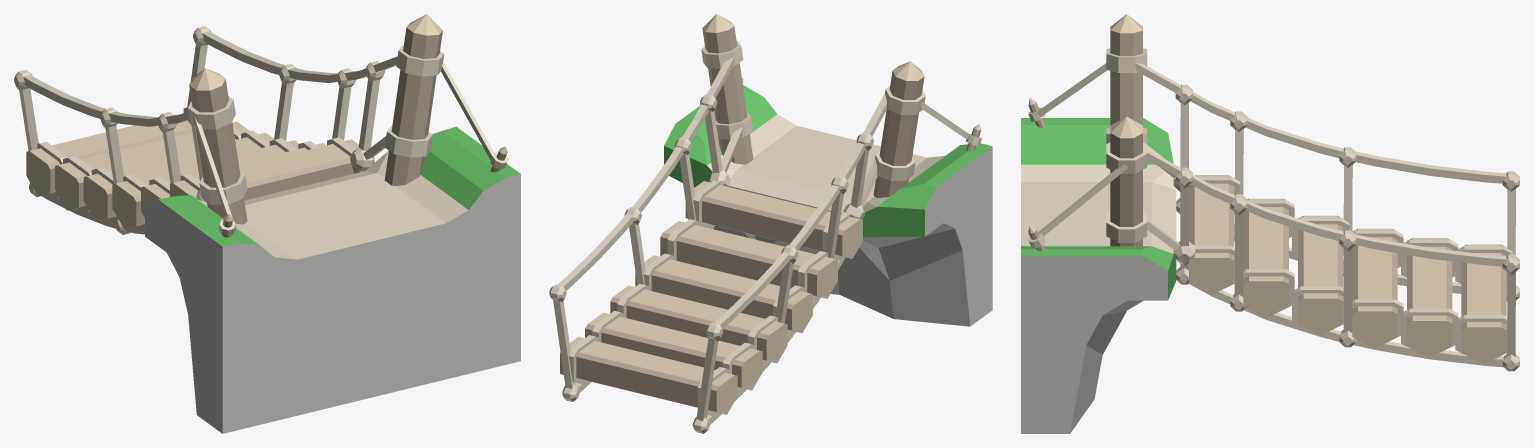
The model's file is Prop_Bridge_Rope_End.glb.
The picture shows the model from 3 angles, left to right: view 1: azimuth 30°, elevation 25°; view 2: azimuth 150°, elevation 25°; view 3: azimuth 270°, elevation 25°; orthographic projection. The views are drawn at different scales.
Parts seen in each view (by area): view 1: object13, object48, object65, object41, object54, object62, object58, object63, object1, object26, object50, object59 (+12 smaller); view 2: object13, object54, object65, object60, object63, object58, object62, object41, object48, object26, object1, object2 (+16 smaller); view 3: object13, object60, object63, object58, object62, object65, object54, object1, object26, object48, object41, object35 (+23 smaller).
Part boxes in pixels (box(x1,y1,x2,y2)): object13: box(145, 126, 520, 433); object48: box(384, 14, 442, 185); object65: box(170, 139, 358, 200); object41: box(189, 68, 247, 224); object54: box(26, 113, 192, 196); object62: box(55, 121, 249, 210); object58: box(83, 132, 273, 221); object63: box(112, 140, 298, 229); object1: box(23, 75, 187, 126); object26: box(202, 31, 366, 82); object50: box(384, 126, 432, 157); object59: box(396, 45, 444, 76); object13: box(664, 85, 992, 326); object54: box(560, 337, 737, 414); object65: box(685, 181, 862, 258); object60: box(660, 221, 837, 298); object63: box(635, 255, 812, 333); object58: box(610, 285, 787, 363); object62: box(585, 312, 762, 390); object41: box(873, 61, 924, 198); object48: box(702, 14, 753, 164); object26: box(558, 104, 708, 290); object1: box(714, 142, 865, 328); object2: box(696, 338, 718, 420); object13: box(1021, 118, 1176, 433); object60: box(1243, 198, 1288, 318); object63: box(1298, 215, 1343, 335); object58: box(1352, 228, 1397, 348); object62: box(1407, 238, 1452, 357); object65: box(1189, 175, 1234, 294); object54: box(1461, 244, 1506, 363); object1: box(1190, 92, 1506, 183); object26: box(1191, 175, 1506, 266); object48: box(1110, 116, 1142, 246); object41: box(1110, 14, 1142, 125); object35: box(1190, 284, 1503, 367).
Bounding box in the file's own units: 2 × 2.02 × 3.05.
